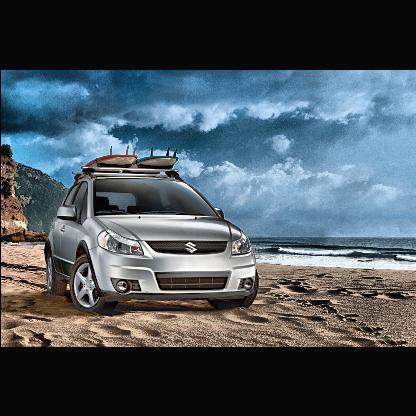Suzuki SX4 Hatchback 2012: (42, 145, 260, 314)
